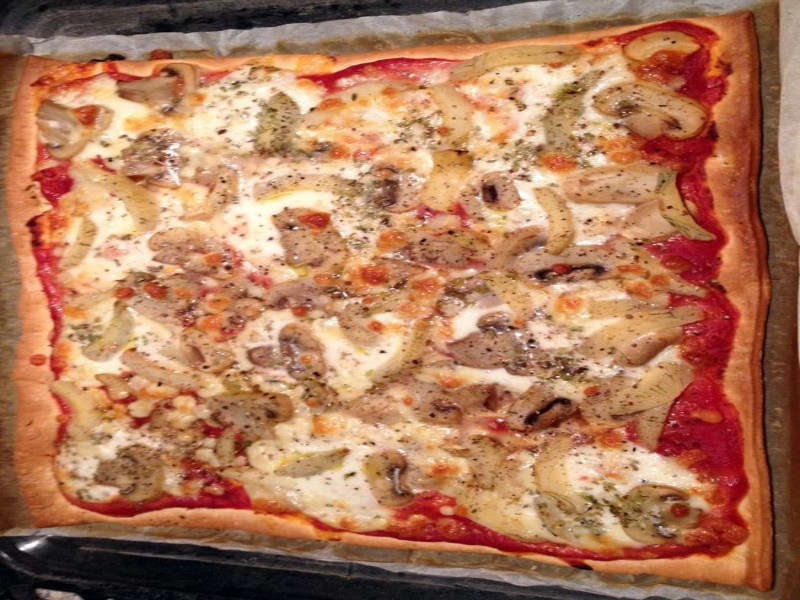champignon: (592, 82, 710, 150), (611, 477, 710, 550), (90, 442, 174, 506)
